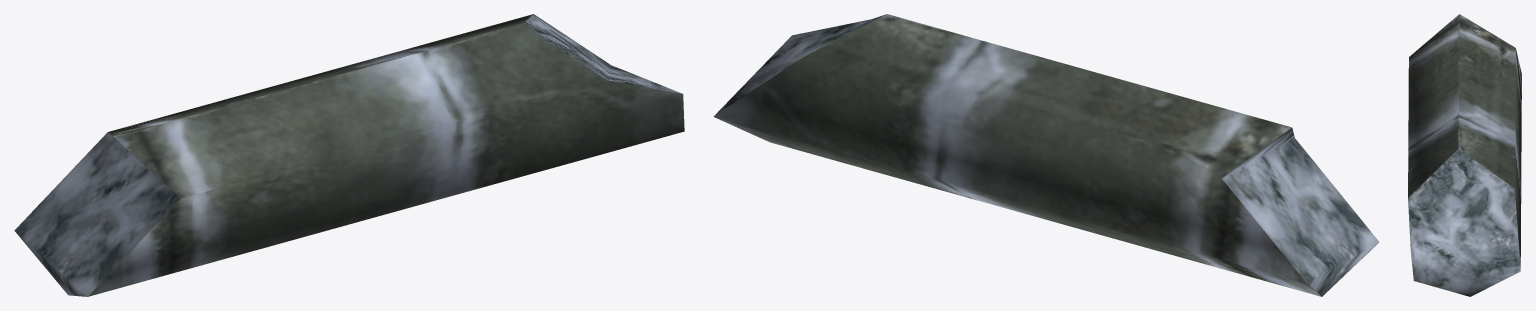
The model's file is SC_bingfengyiji_15.FBX.
3 renders of one model, left to right at view 1: azimuth 30°, elevation 25°; view 2: azimuth 150°, elevation 25°; view 3: azimuth 270°, elevation 25°, orthographic. The views are drawn at different scales.
Visible parts, largest first — view 1: SC_bingfengyiji_15; view 2: SC_bingfengyiji_15; view 3: SC_bingfengyiji_15.
Boxes of the visible parts, x1,y1,x2,y2 form: SC_bingfengyiji_15: [14, 14, 684, 296]; SC_bingfengyiji_15: [713, 14, 1379, 296]; SC_bingfengyiji_15: [1408, 14, 1521, 296].
Bounding box in the file's own units: 468 × 127 × 106.
